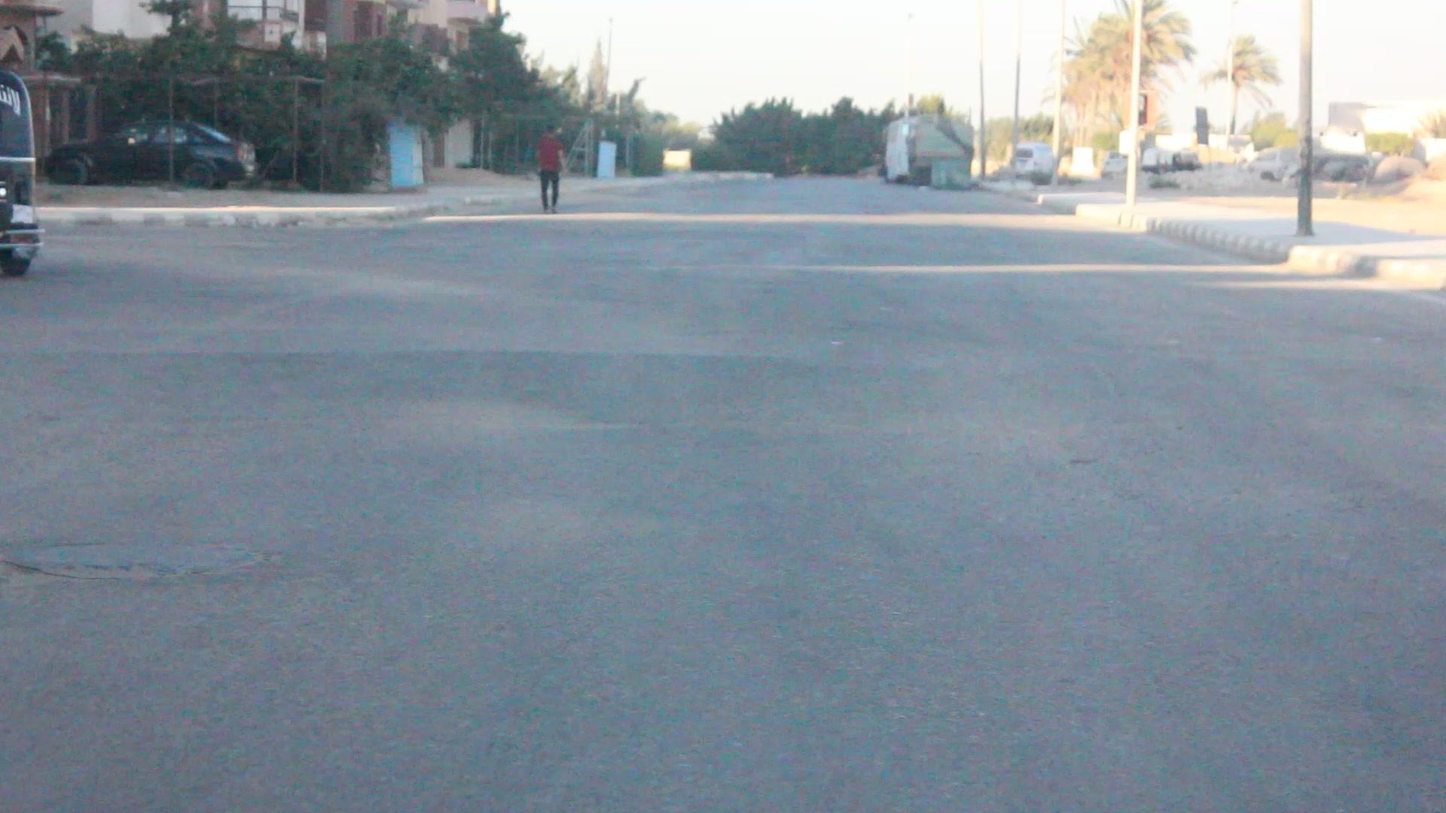Bump: (4, 339, 1446, 435)
